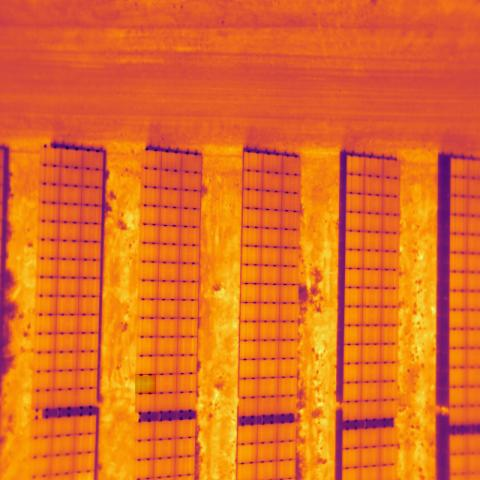fault: (135, 374, 156, 394)
